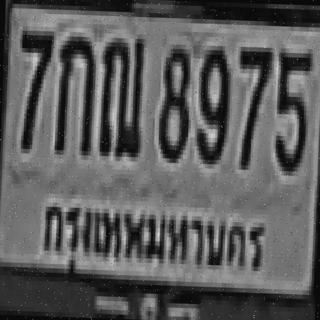A01: (52, 31, 96, 161)
A19: (97, 33, 145, 162)
N05: (272, 48, 313, 176)
N07: (234, 42, 273, 172), (16, 26, 55, 156)
N08: (155, 39, 192, 167)
N09: (194, 40, 232, 166)
P04: (37, 190, 273, 283)
